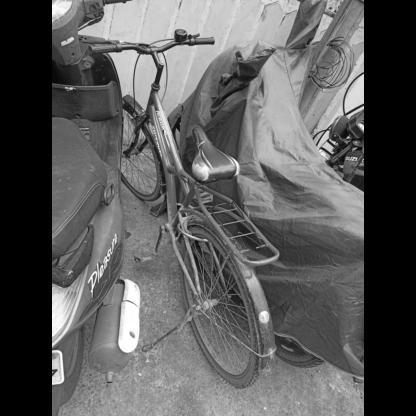Bicycle: (89, 19, 309, 404)
